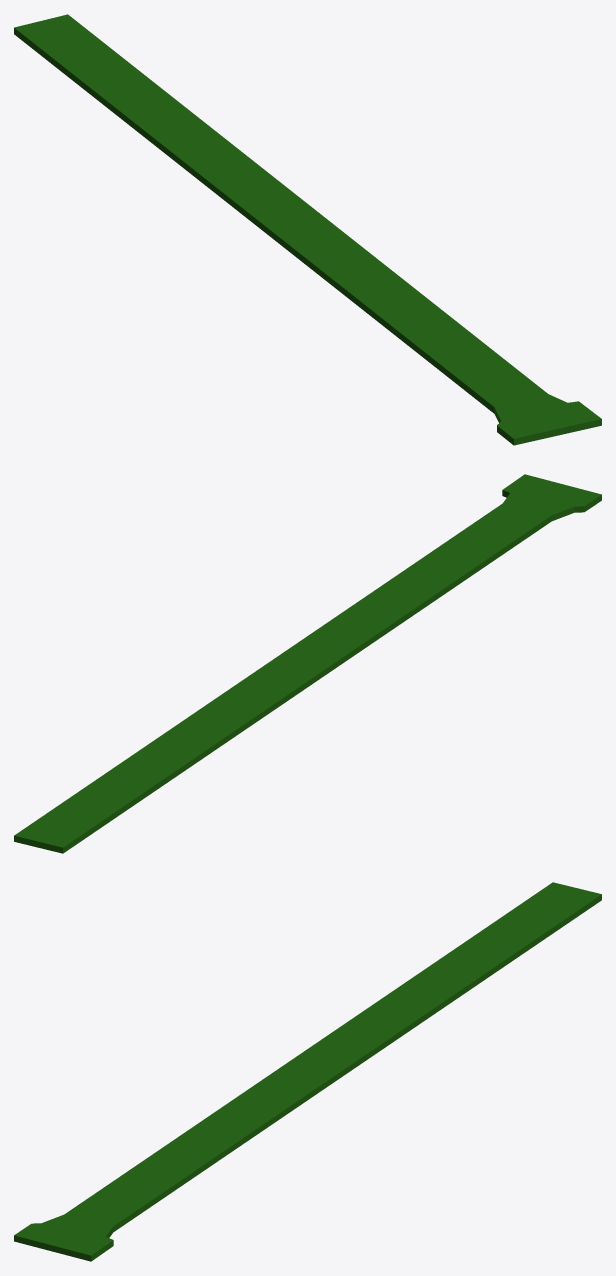
Rendered from road.glb.
The picture shows the model from 3 angles, top to bottom: view 1: azimuth 30°, elevation 25°; view 2: azimuth 150°, elevation 25°; view 3: azimuth 330°, elevation 25°; orthographic projection. The views are drawn at different scales.
Visible parts, largest first — view 1: Plane.001; view 2: Plane.001; view 3: Plane.001.
Part boxes in pixels (x1,y1,x2,y2): Plane.001: (14,14,601,445); Plane.001: (14,474,601,853); Plane.001: (14,882,601,1261).
Size of the model in its own units: 5.18 by 0.3294 by 48.91.
